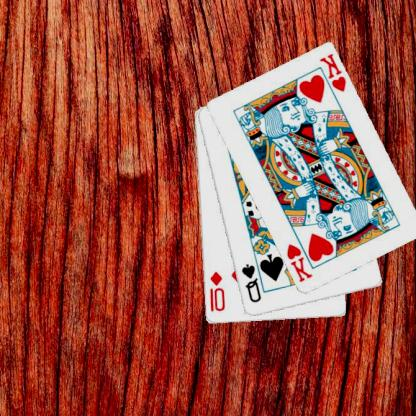10D: (209, 269, 228, 313)
KH: (318, 51, 349, 93), (286, 241, 316, 284)
QS: (240, 262, 264, 304)
